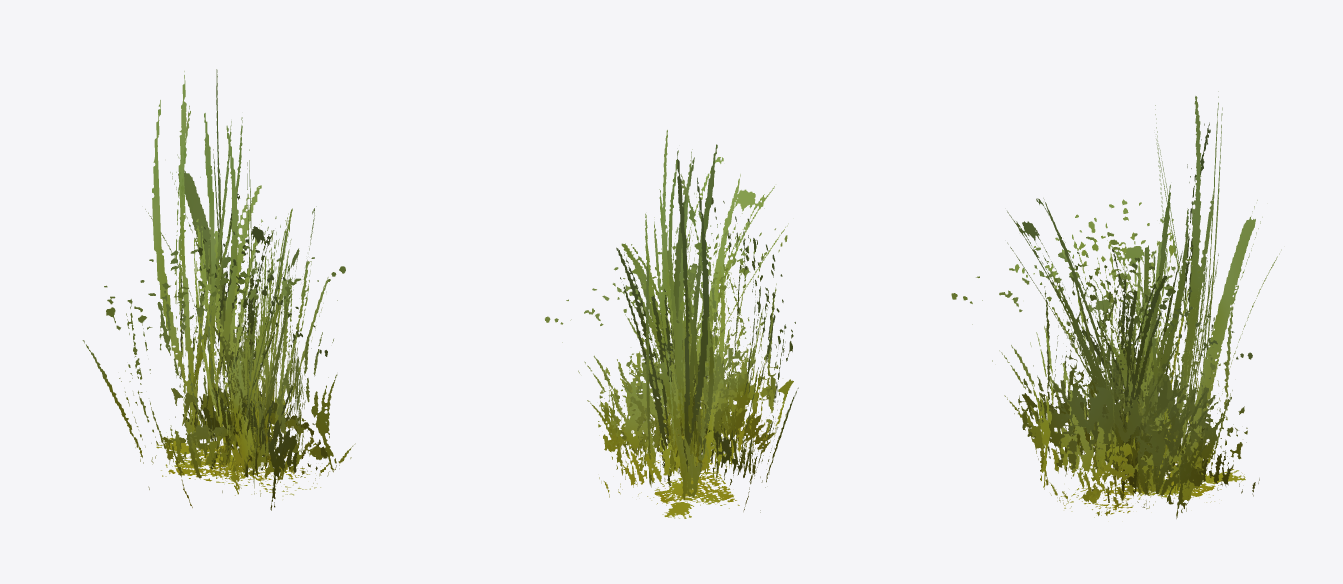
Rendered from grass39.fbx.
3 renders of one model, left to right at view 1: azimuth 30°, elevation 25°; view 2: azimuth 150°, elevation 25°; view 3: azimuth 270°, elevation 25°, orthographic. The views are drawn at different scales.
Visible parts, largest first — view 1: grass6_BAKED; view 2: grass6_BAKED; view 3: grass6_BAKED.
Part boxes in pixels (bbox=[...]): grass6_BAKED: bbox=[82, 69, 355, 510]; grass6_BAKED: bbox=[545, 130, 798, 518]; grass6_BAKED: bbox=[951, 91, 1281, 518].
Size of the model in its own units: 43.67 by 40.18 by 59.51.
